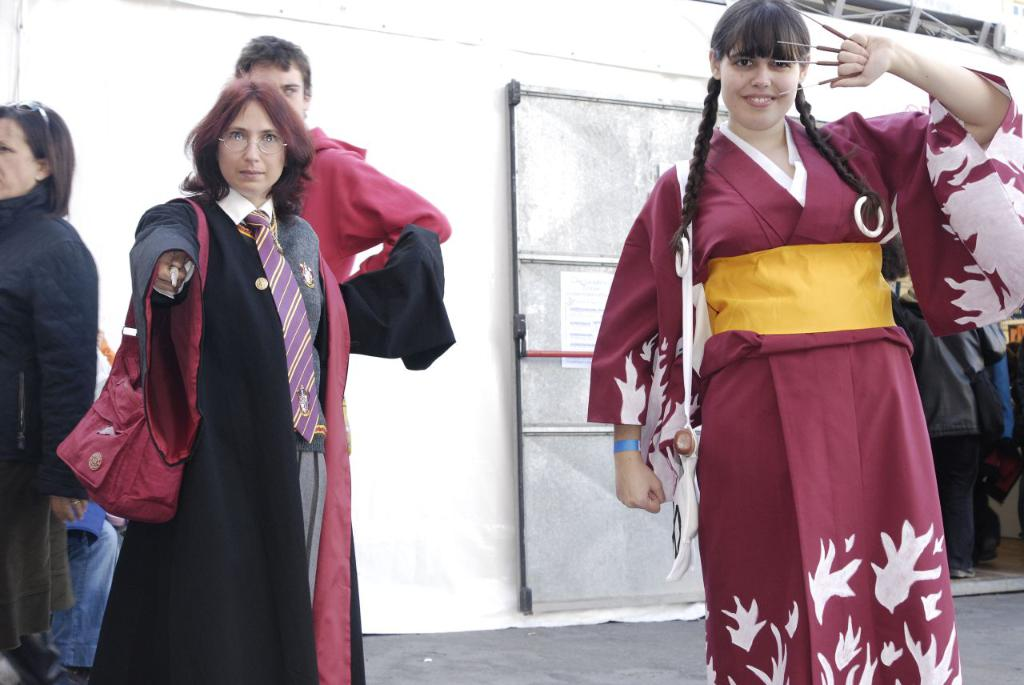Person: (234, 34, 451, 283), (880, 229, 1007, 577), (48, 330, 119, 685)
